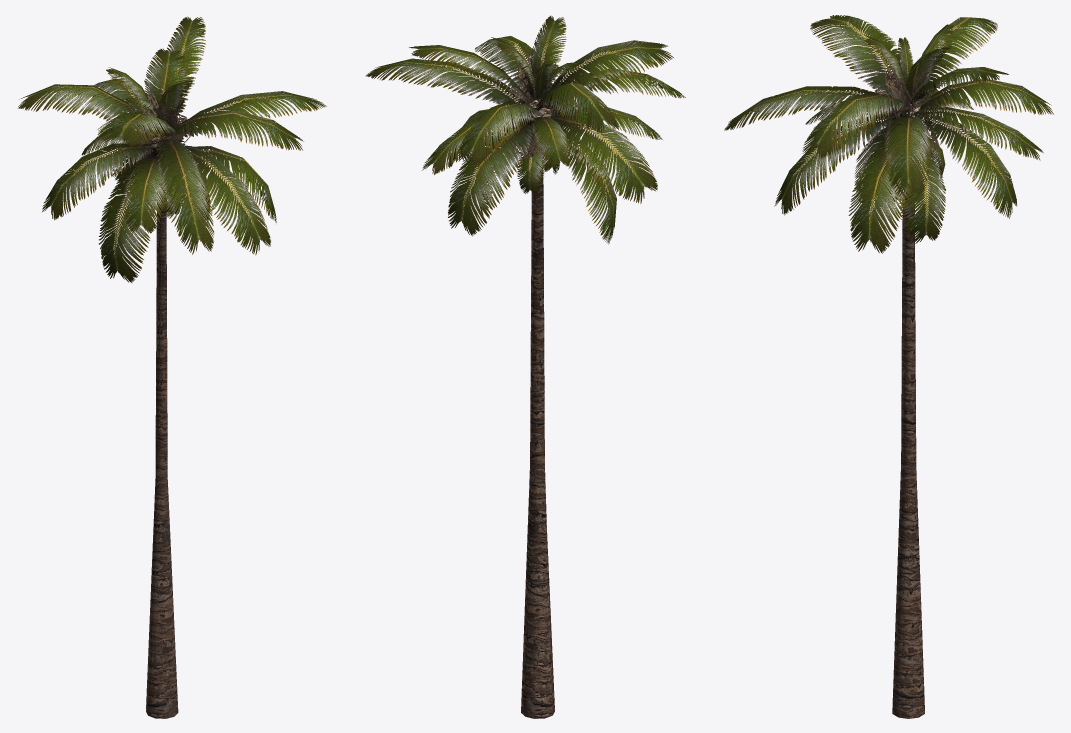
File: palm-far.gltf
3 views of the same model, side by side, from view 1: azimuth 30°, elevation 25°; view 2: azimuth 150°, elevation 25°; view 3: azimuth 270°, elevation 25° (orthographic). The views are drawn at different scales.
Parts seen in each view (by area): view 1: palm; view 2: palm; view 3: palm.
Part boxes in pixels (left/top/right/bottom): palm: left=18, top=16, right=326, bottom=718; palm: left=365, top=15, right=685, bottom=718; palm: left=724, top=15, right=1053, bottom=718.
Bounding box in the file's own units: 2.75 × 6.1 × 2.74.
1 material, 1 textured.
